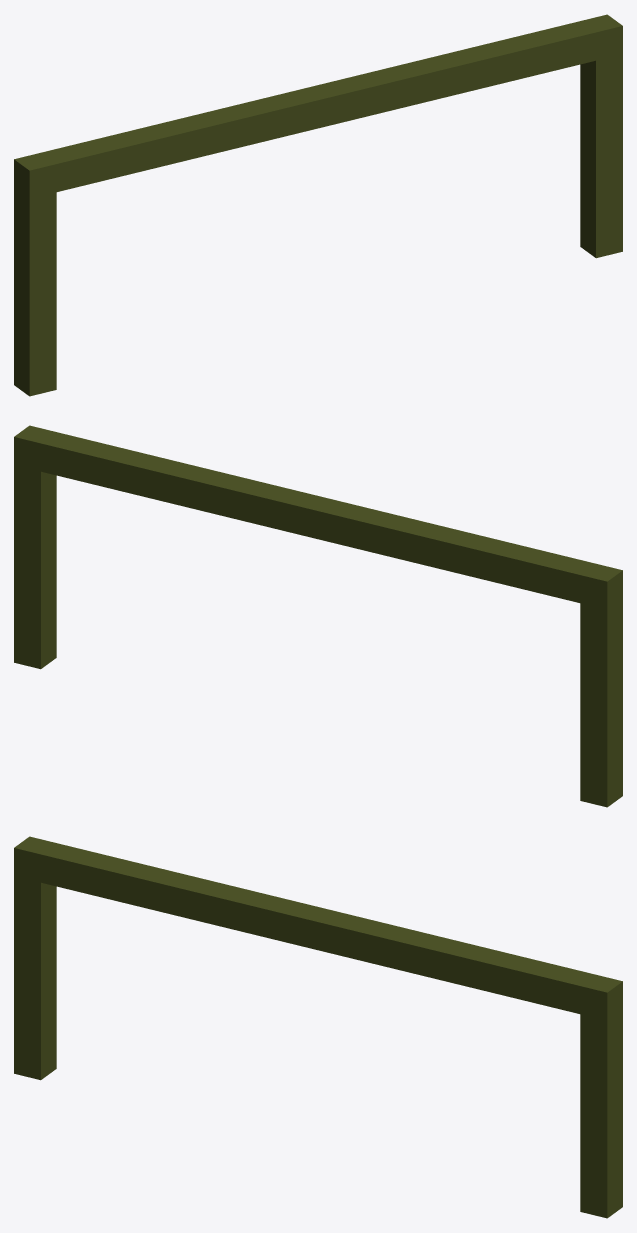
Rendered from army_jeep_side_rail.glb.
3 views of the same model, one above another, from view 1: azimuth 30°, elevation 25°; view 2: azimuth 150°, elevation 25°; view 3: azimuth 330°, elevation 25° (orthographic).
Visible parts, largest first — view 1: body:compound; view 2: body:compound; view 3: body:compound.
Part boxes in pixels (x1=…): body:compound: x1=14, y1=14, x2=622, y2=396; body:compound: x1=14, y1=425, x2=622, y2=807; body:compound: x1=14, y1=836, x2=622, y2=1218.
Bounding box in the file's own units: 0.6875 × 0.25 × 0.0312.
